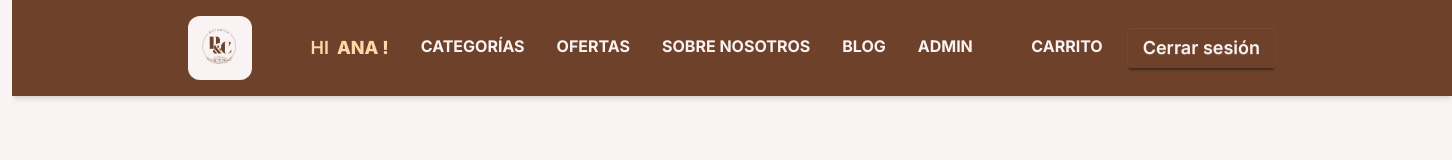
Test: Navbar › 'Cerrar sesión' ejecuta logout y vuelve a mostrar Login
The width and height of the screenshot is (1452, 160).
Click the button "Cerrar sesión". click: [1201, 48]
box: x1=1127 y1=28 x2=1276 y2=68
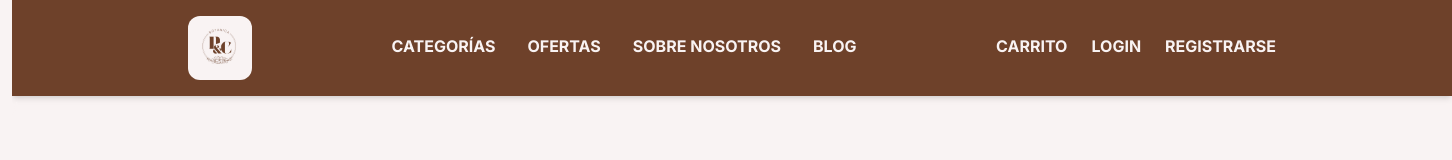
Check: the link "Login" is shown, box x1=1092 y1=34 x2=1141 y2=62
